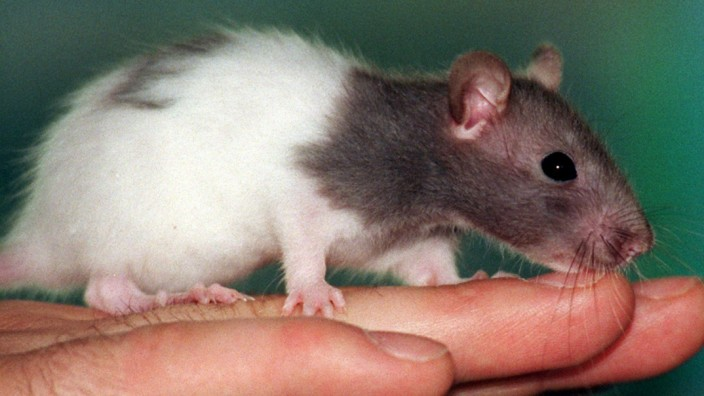rat: (2, 19, 668, 324)
